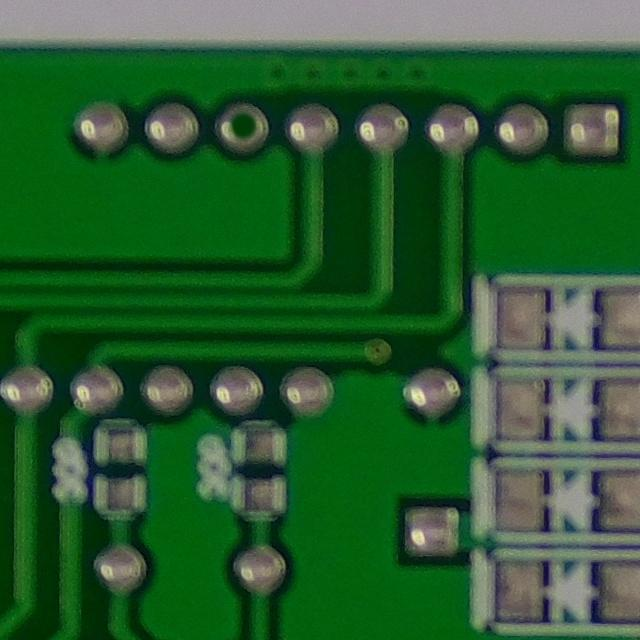missing_hole: (213, 97, 280, 158)
